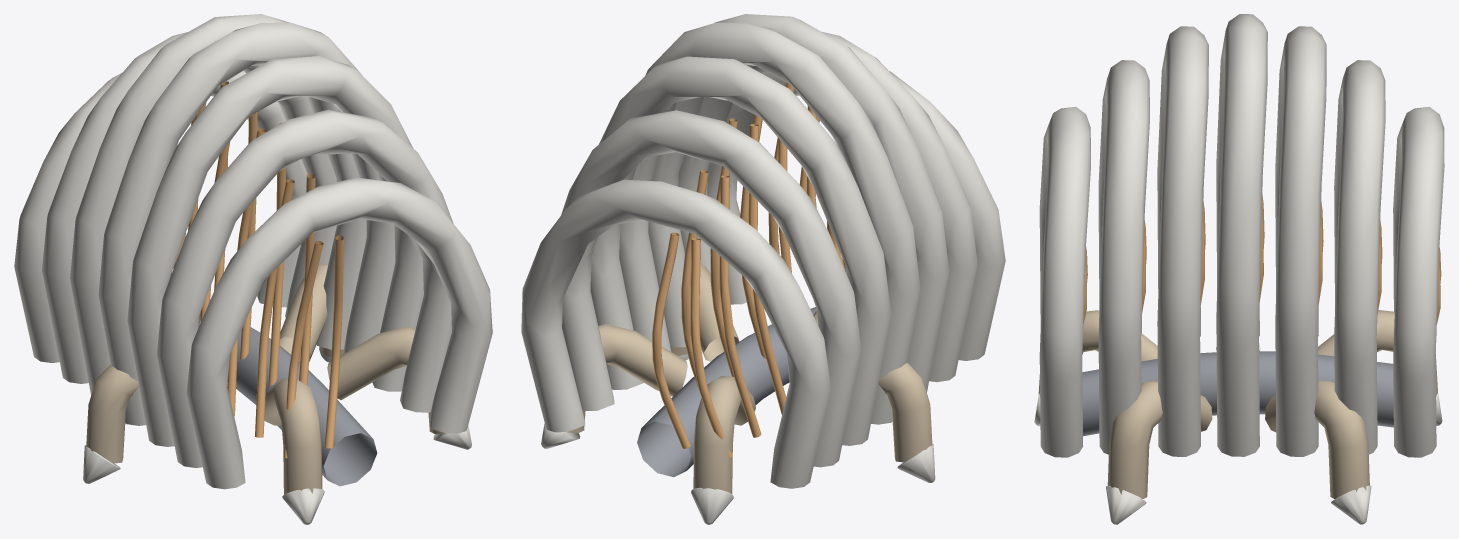
Rendered from bio_blind_harp_04_far.glb.
3 renders of one model, left to right at view 1: azimuth 30°, elevation 25°; view 2: azimuth 150°, elevation 25°; view 3: azimuth 270°, elevation 25°, orthographic. The views are drawn at different scales.
Visible parts, largest first — view 1: Open rib arch, Open rib arch.001, Open rib arch.002, Open rib arch.003, Open rib arch.004, Open rib arch.005, Open rib arch.006, Low axial spine, Crooked support.003, Resonance filament, Crooked support.002, Crooked support.004 (+6 smaller); view 2: Open rib arch.006, Open rib arch.005, Open rib arch.004, Open rib arch.003, Open rib arch.002, Open rib arch.001, Open rib arch, Low axial spine, Crooked support.001, Resonance filament.012, Crooked support.002, Resonance filament.010 (+7 smaller); view 3: Open rib arch.003, Open rib arch.004, Open rib arch.002, Open rib arch.001, Open rib arch.005, Open rib arch.006, Open rib arch, Low axial spine, Crooked support.004, Crooked support, Crooked support.001, Crooked support.003 (+2 smaller).
Boxes of the visible parts, left/top/right/bottom form: Open rib arch: left=186, top=177, right=492, bottom=489; Open rib arch.001: left=156, top=109, right=453, bottom=467; Open rib arch.002: left=127, top=56, right=423, bottom=446; Open rib arch.003: left=98, top=22, right=395, bottom=425; Open rib arch.004: left=70, top=14, right=366, bottom=395; Open rib arch.005: left=42, top=32, right=336, bottom=383; Open rib arch.006: left=14, top=71, right=307, bottom=362; Low axial spine: left=236, top=327, right=377, bottom=486; Crooked support.003: left=264, top=378, right=322, bottom=494; Resonance filament: left=283, top=235, right=343, bottom=458; Crooked support.002: left=86, top=365, right=139, bottom=463; Crooked support.004: left=327, top=326, right=445, bottom=434; Open rib arch.006: left=521, top=179, right=831, bottom=488; Open rib arch.005: left=561, top=110, right=861, bottom=467; Open rib arch.004: left=590, top=56, right=891, bottom=445; Open rib arch.003: left=619, top=22, right=920, bottom=424; Open rib arch.002: left=648, top=14, right=949, bottom=392; Open rib arch.001: left=678, top=32, right=977, bottom=382; Open rib arch: left=707, top=71, right=1005, bottom=360; Low axial spine: left=637, top=307, right=816, bottom=477; Crooked support.001: left=693, top=376, right=755, bottom=494; Resonance filament.012: left=652, top=232, right=732, bottom=458; Crooked support.002: left=878, top=362, right=932, bottom=462; Resonance filament.010: left=681, top=170, right=761, bottom=437; Open rib arch.003: left=1216, top=14, right=1267, bottom=456; Open rib arch.004: left=1275, top=26, right=1326, bottom=456; Open rib arch.002: left=1157, top=26, right=1208, bottom=456; Open rib arch.001: left=1098, top=60, right=1149, bottom=454; Open rib arch.005: left=1334, top=60, right=1385, bottom=454; Open rib arch.006: left=1393, top=106, right=1444, bottom=457; Open rib arch: left=1039, top=106, right=1090, bottom=457; Low axial spine: left=1082, top=351, right=1393, bottom=436; Crooked support.004: left=1107, top=380, right=1212, bottom=498; Crooked support: left=1265, top=380, right=1369, bottom=498; Crooked support.001: left=1318, top=310, right=1437, bottom=396; Crooked support.003: left=1038, top=310, right=1157, bottom=394.
Size of the model in its own units: 1.83 by 2.21 by 1.93.
